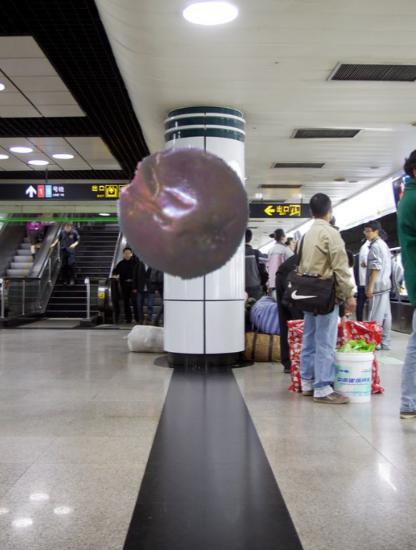Passion: (114, 142, 253, 281)
